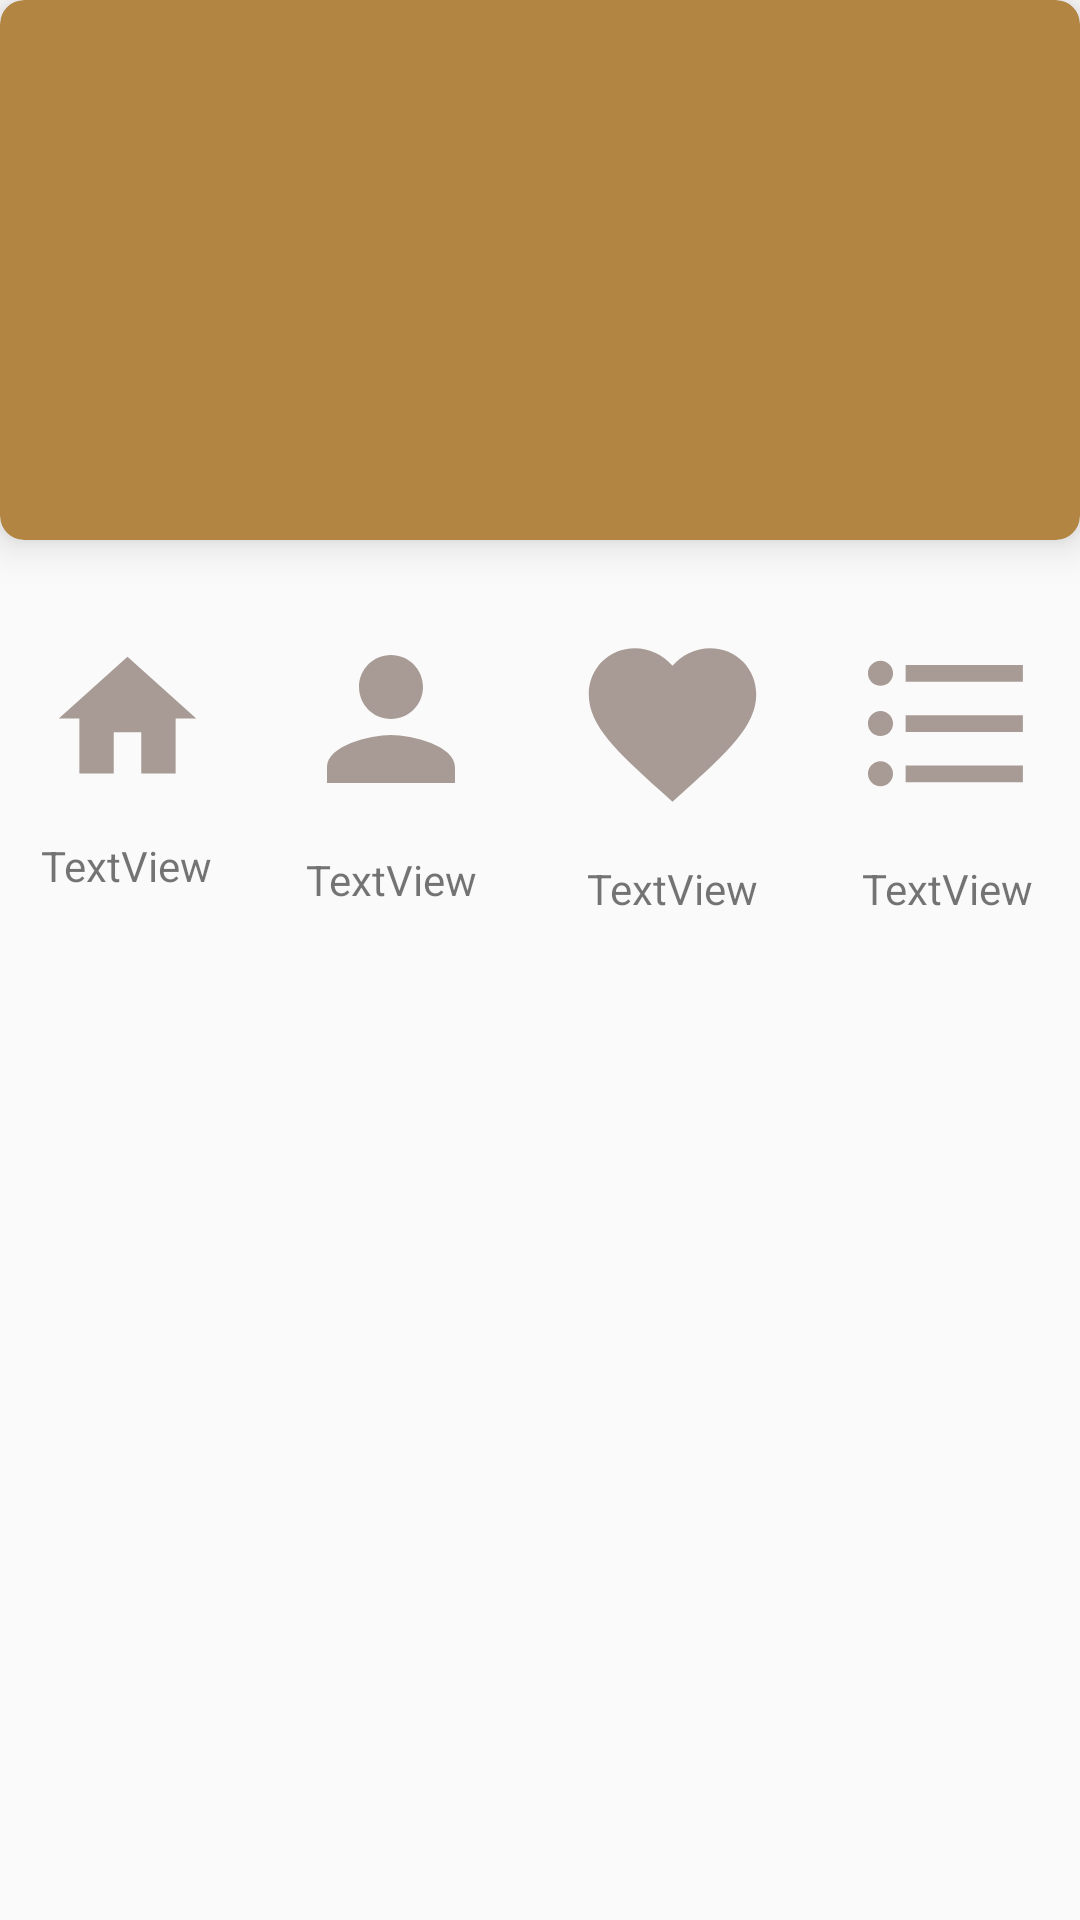

Screen size 1080×1920. Icon name, then its center in pixels as (x,y):
category: (945,723)
favorite: (672,725)
home: (127,715)
profile: (391,719)
